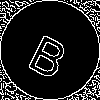B: (25, 25, 76, 81)
